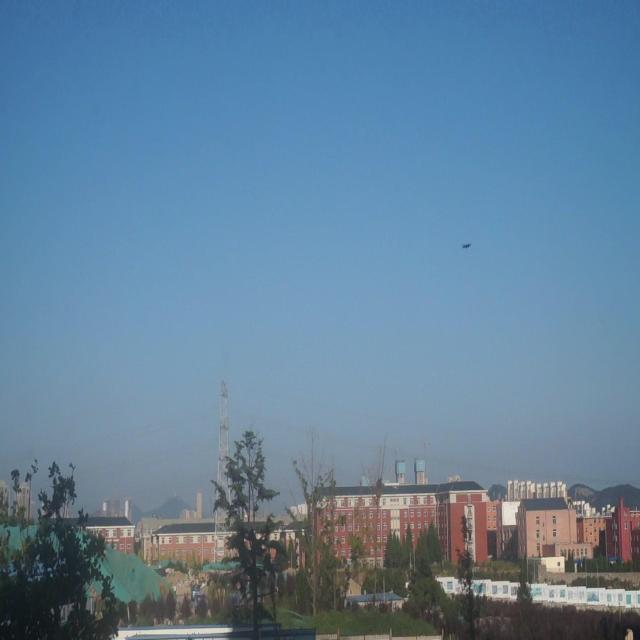UAV: (462, 242, 472, 249)
